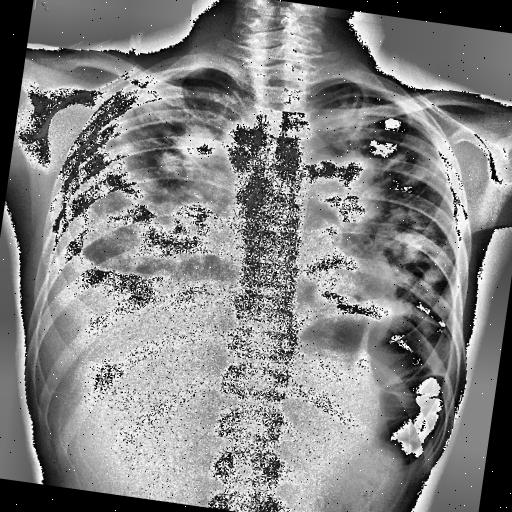10- Pleural effusion: (46, 85, 252, 341), (39, 126, 213, 334), (38, 100, 180, 299)
4- Consolidation: (284, 142, 470, 322), (82, 86, 241, 280), (98, 174, 220, 268), (309, 152, 386, 222), (150, 118, 223, 182)
7- Lung Opacity: (286, 91, 472, 308), (83, 62, 250, 284), (284, 142, 470, 322), (82, 86, 241, 280), (82, 110, 220, 276), (372, 159, 464, 292)
8- Nodule-Mass: (284, 142, 470, 322), (82, 86, 241, 280), (318, 150, 384, 222)
